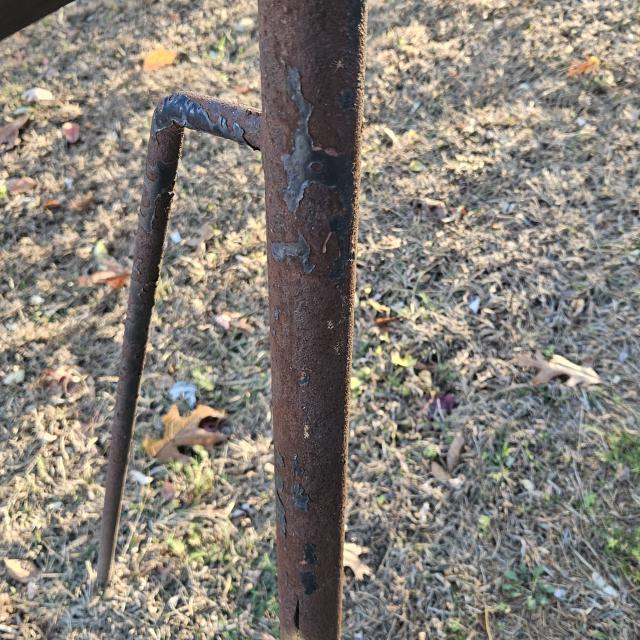Filiform Corrosion: (135, 78, 360, 294)
Uniform Corrosion: (270, 205, 350, 639), (197, 3, 368, 156)
